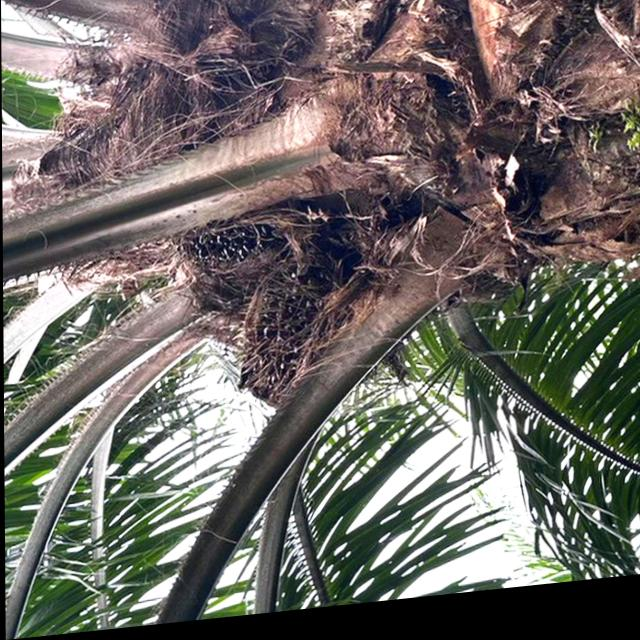ripe: (236, 241, 348, 408), (163, 195, 306, 287)
